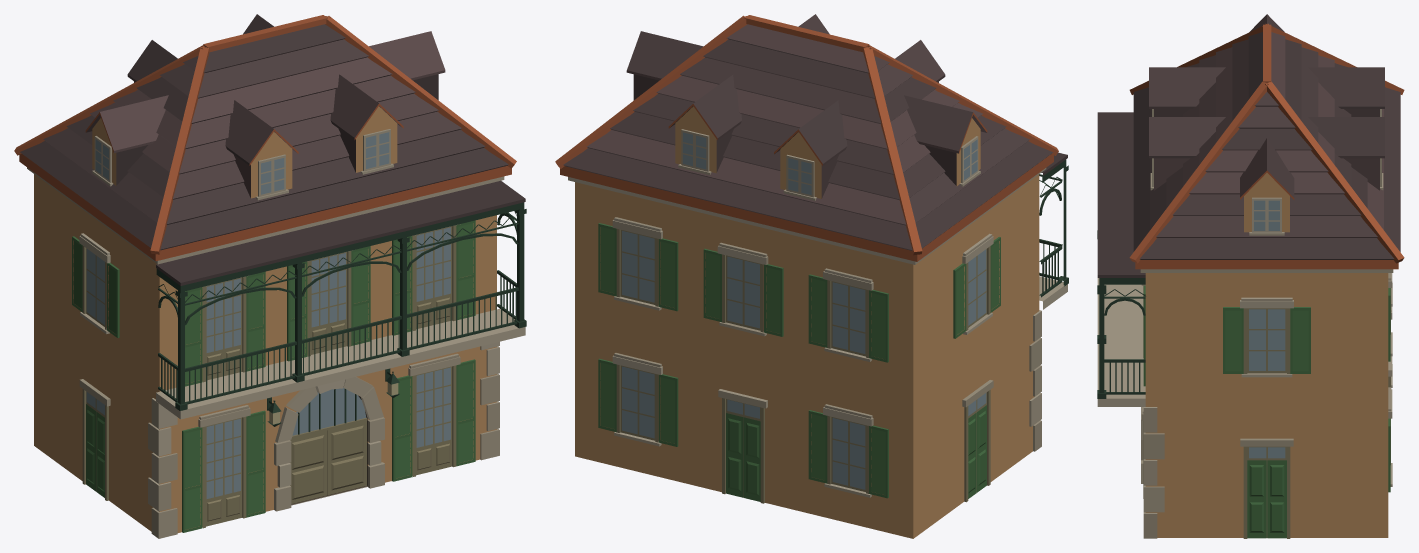
File: french-quarter-townhouse-fd109f.glb
The picture shows the model from 3 angles, left to right: view 1: azimuth 30°, elevation 25°; view 2: azimuth 150°, elevation 25°; view 3: azimuth 270°, elevation 25°; orthographic projection. The views are drawn at different scales.
Visible parts, largest first — view 1: townhouse-body, door-right-leaf, door-left-leaf; view 2: townhouse-body; view 3: townhouse-body.
Boxes of the visible parts, <box> form: townhouse-body: <box>14,14,526,538</box>; door-right-leaf: <box>327,421,366,494</box>; door-left-leaf: <box>290,430,327,503</box>; townhouse-body: <box>555,14,1068,538</box>; townhouse-body: <box>1097,14,1404,538</box>.
Bounding box in the file's own units: 9.78 × 10.69 × 7.34.
